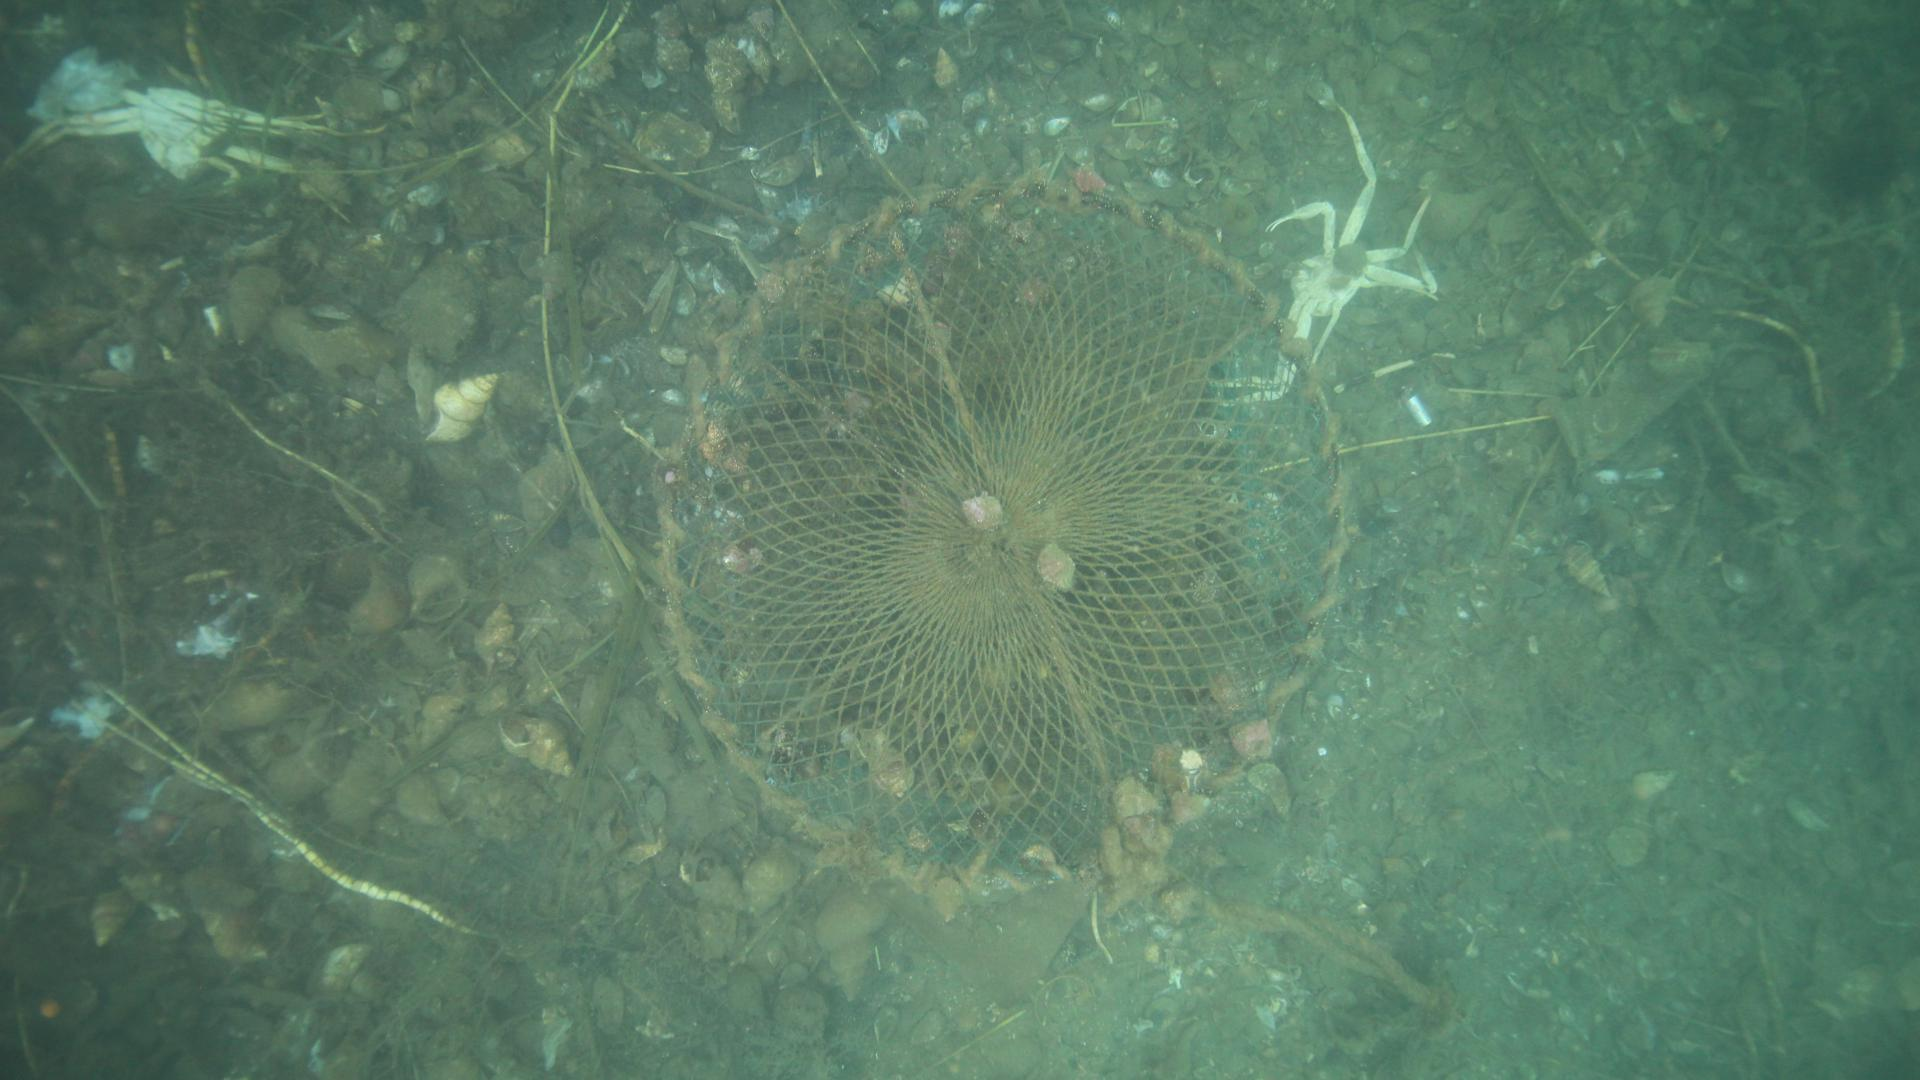bundle of ropes: (1095, 866, 1461, 1013)
circular fish trap: (649, 164, 1346, 923)
